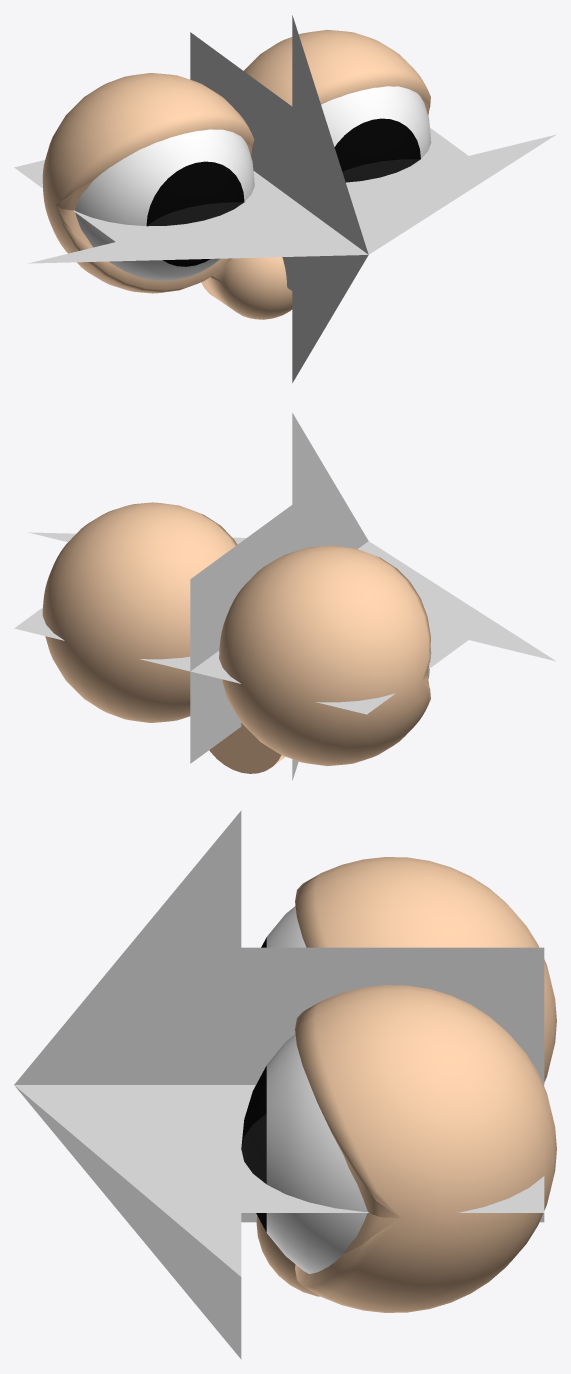
Rendered from cartooneyes_FBX.FBX.
3 renders of one model, top to bottom at view 1: azimuth 30°, elevation 25°; view 2: azimuth 150°, elevation 25°; view 3: azimuth 270°, elevation 25°, orthographic. The views are drawn at different scales.
Parts seen in each view (by area): view 1: LOOK, x sag goz kapak, x sag goz, x sol goz, x sol goz kapak, x burun; view 2: x sag goz kapak, x sol goz kapak, LOOK, x burun; view 3: LOOK, x sol goz kapak, x sag goz kapak, x sol goz, x burun, x sag goz.
Part boxes in pixels (bbox=[...]): LOOK: bbox=[14, 15, 556, 382]; x sag goz kapak: bbox=[42, 73, 254, 293]; x sag goz: bbox=[75, 129, 254, 280]; x sol goz: bbox=[321, 86, 431, 182]; x sol goz kapak: bbox=[244, 29, 430, 115]; x burun: bbox=[201, 257, 292, 319]; x sag goz kapak: bbox=[219, 545, 430, 766]; x sol goz kapak: bbox=[42, 502, 237, 722]; LOOK: bbox=[14, 413, 556, 780]; x burun: bbox=[209, 722, 284, 773]; LOOK: bbox=[14, 810, 544, 1359]; x sol goz kapak: bbox=[295, 985, 556, 1312]; x sag goz kapak: bbox=[295, 857, 556, 1082]; x sol goz: bbox=[241, 1034, 367, 1273]; x burun: bbox=[256, 1215, 319, 1296]; x sag goz: bbox=[261, 906, 306, 947].
Bounding box in the file's own units: 120 × 71.67 × 80.
